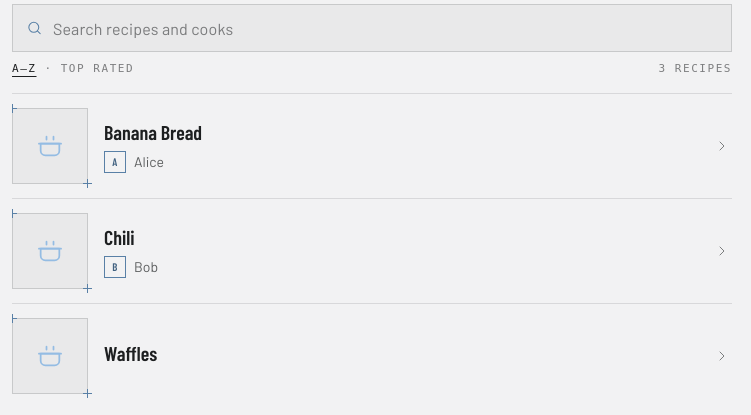
Test: RecipeTable › filters on title
Type "banana" into the search field named "Filter recipes".
click(372, 28); type("banana")  # box [12,4,732,52]
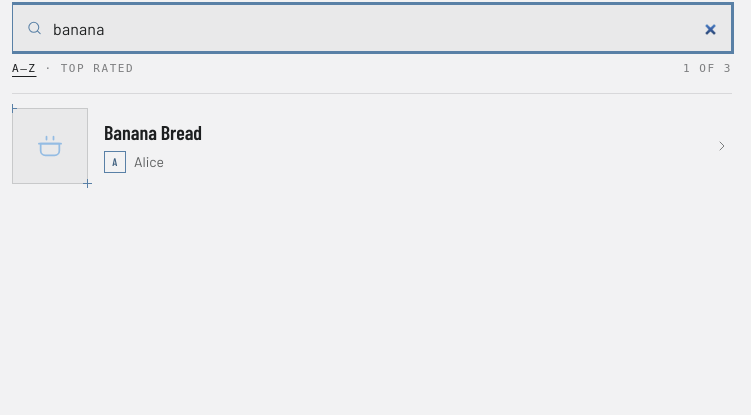
expect the text "Banana Bread" is shown: met, box [104,120,202,144]
expect the button "Chili" is gone: met
expect the text "1 of 3" is shown: met, box [683,60,732,77]
